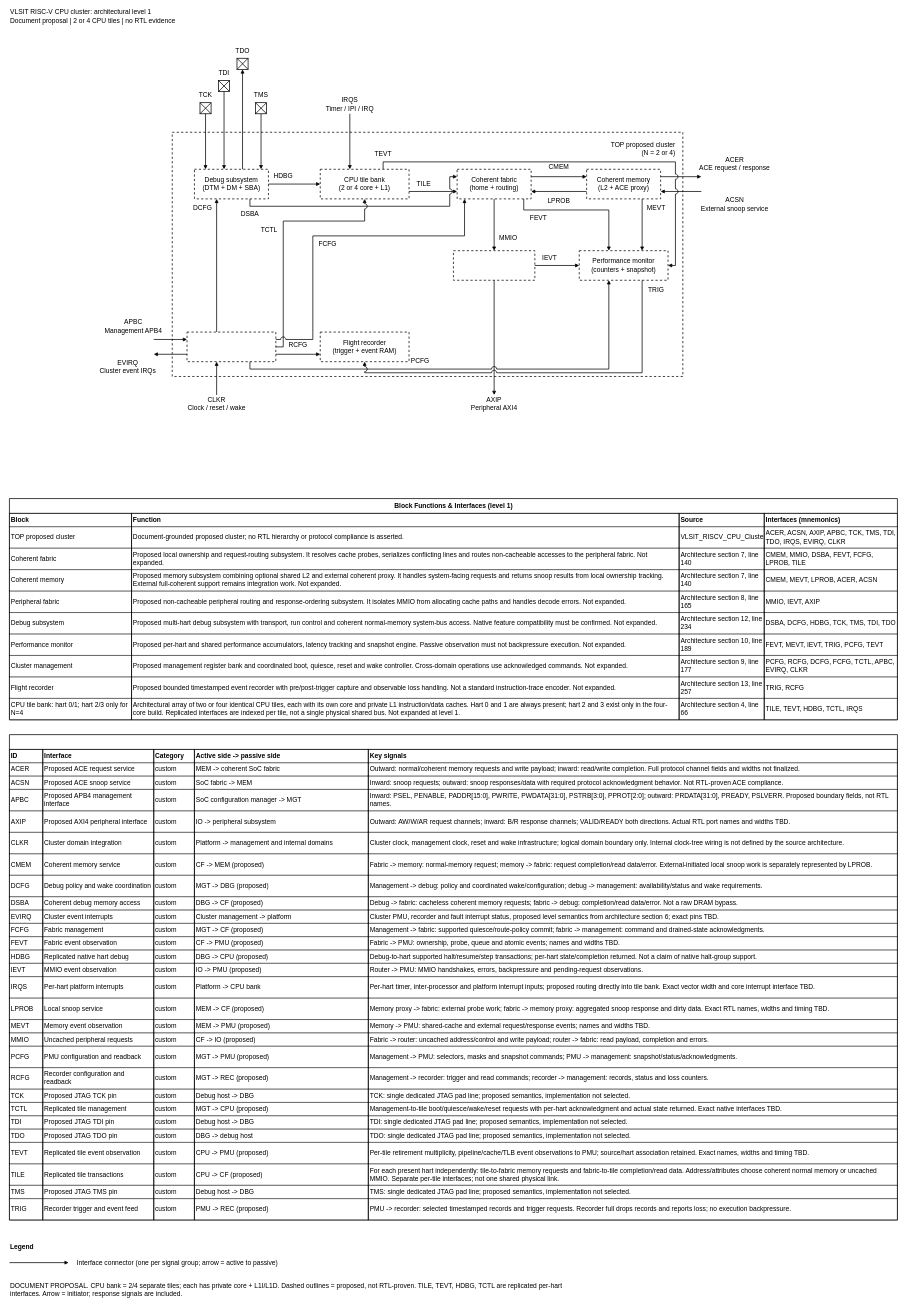
This 904x1313 diagram has some shape labels left out. The box of each missing label's shape, as (x1, y1, x2, y2) in pixels:
Cluster management (APB + power + wake): (186, 332, 276, 362)
Interface Table (level 1): (9, 734, 898, 1220)
Peripheral fabric (AXI4 MMIO router): (453, 250, 535, 280)
